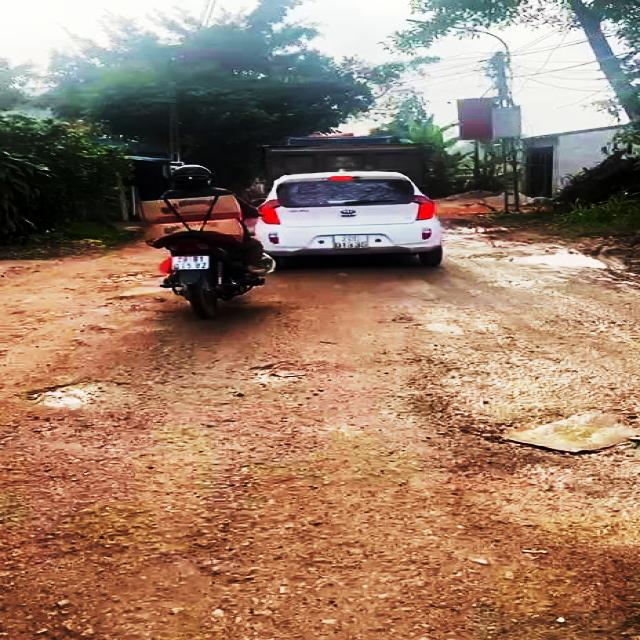pothole: (26, 374, 116, 412), (461, 250, 611, 270), (252, 361, 328, 384)
